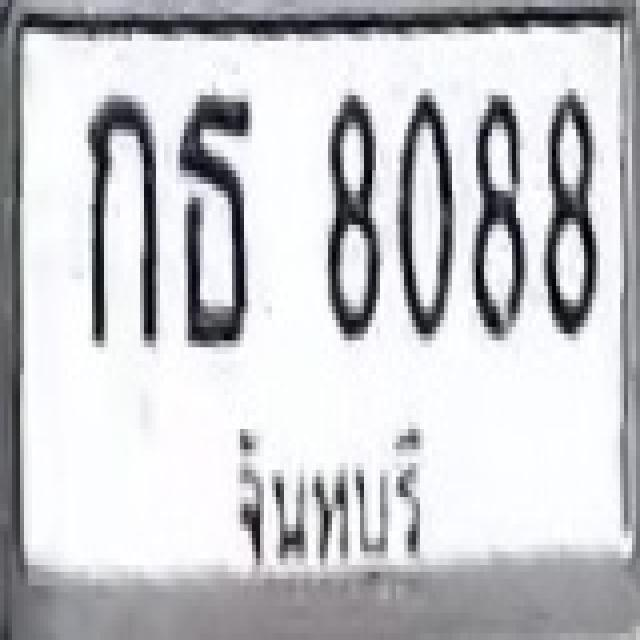0: (396, 88, 452, 340)
8: (324, 88, 380, 340), (542, 85, 598, 337), (470, 92, 526, 337)
A01: (84, 88, 156, 340)
A24: (176, 88, 252, 340)
CTI: (226, 406, 438, 580)
